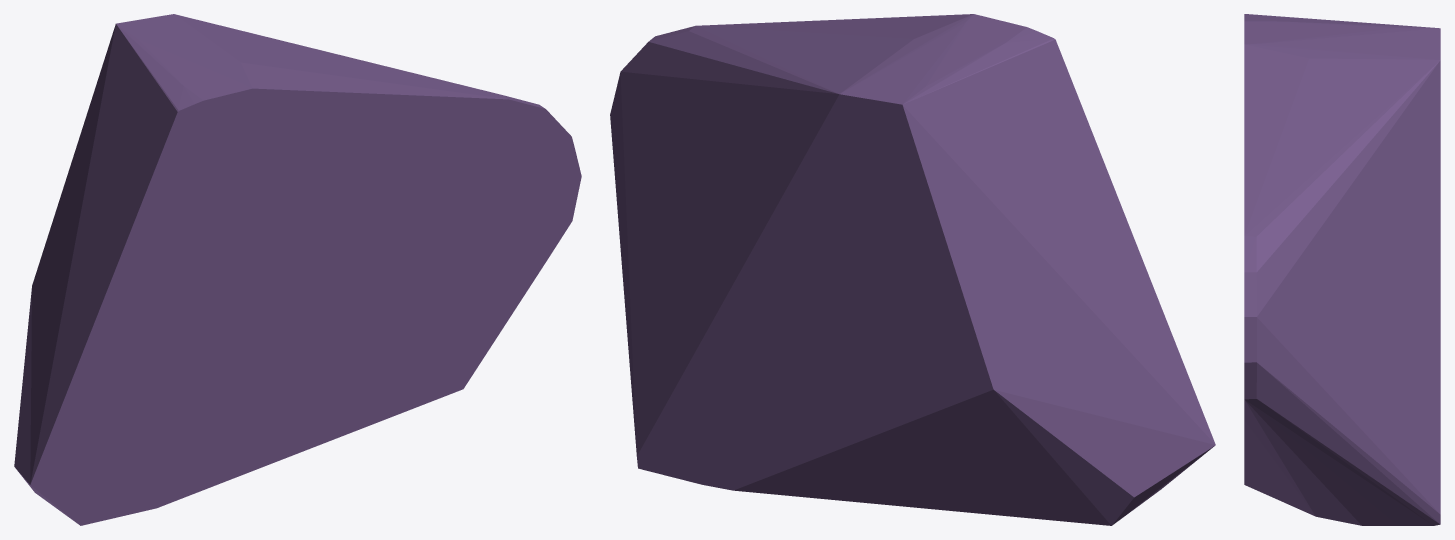
3 renders of one model, left to right at view 1: azimuth 30°, elevation 25°; view 2: azimuth 150°, elevation 25°; view 3: azimuth 270°, elevation 25°, orthographic. The views are drawn at different scales.
Size of the model in its own units: 0.0204 by 0.014 by 0.00649.
